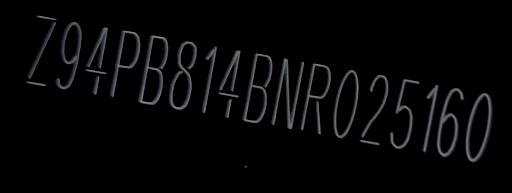letter: (21, 10, 59, 92), (268, 57, 306, 134), (240, 51, 276, 128), (135, 34, 171, 109), (298, 61, 332, 140), (388, 74, 422, 153), (357, 71, 391, 148), (165, 37, 199, 114), (106, 27, 142, 98), (462, 90, 496, 165), (54, 18, 84, 92), (81, 21, 109, 100), (331, 67, 361, 140), (215, 44, 241, 123), (436, 86, 464, 157), (197, 41, 219, 116), (420, 82, 440, 155)
